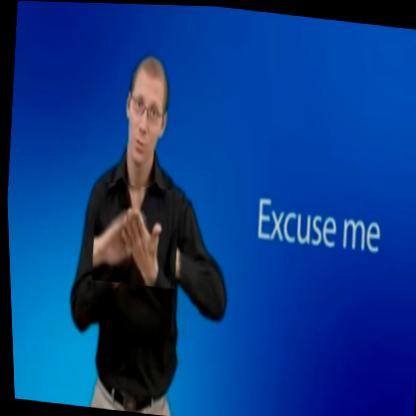ExcuseMe: (87, 180, 181, 289)
